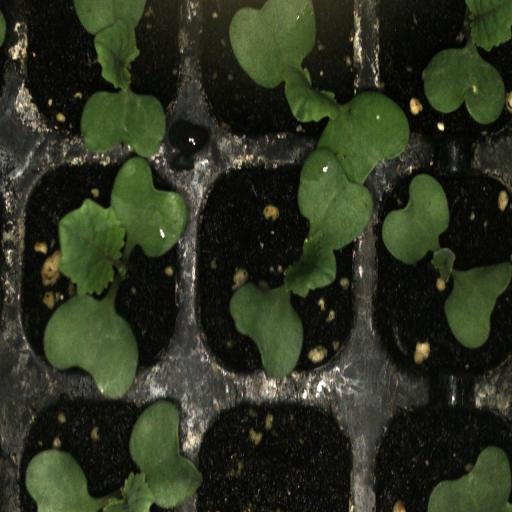seedling: (186, 160, 373, 398), (12, 159, 186, 389), (373, 157, 512, 392), (191, 0, 372, 158), (13, 0, 188, 158), (12, 391, 184, 512)
